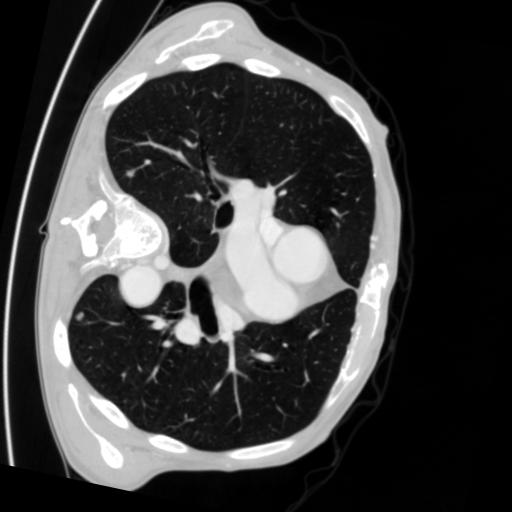nodule: (124, 166, 139, 181)
